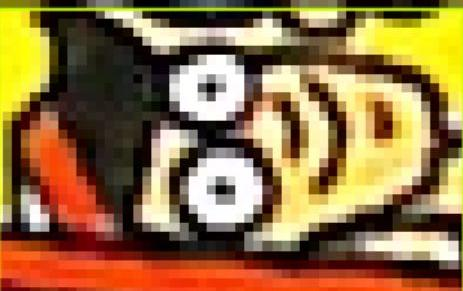waldos: (10, 13, 463, 258)
